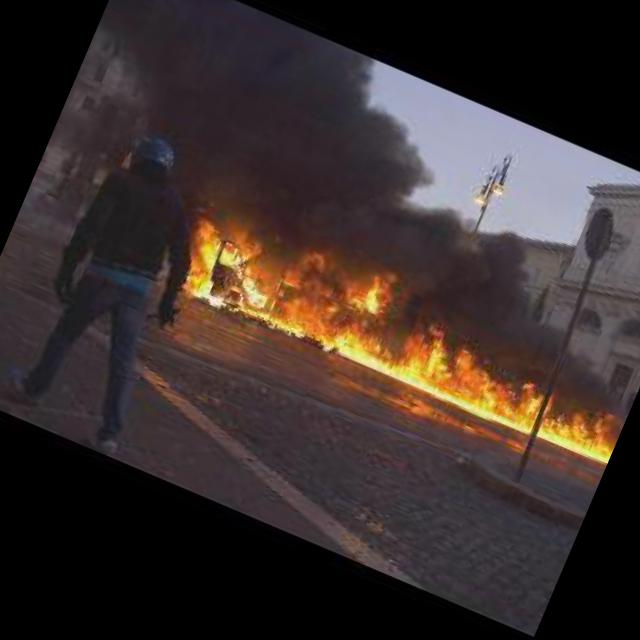fire: (158, 190, 640, 467)
smoke: (142, 0, 640, 416)
